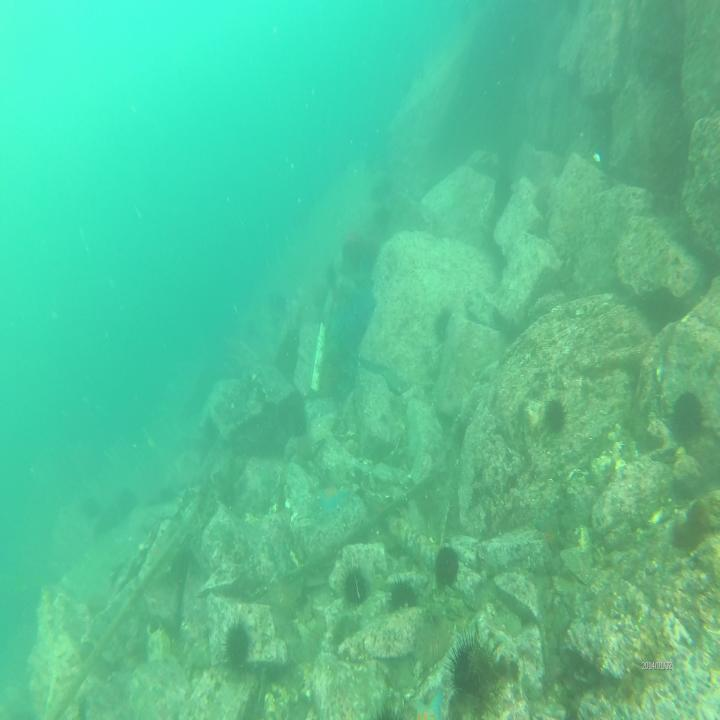echinus: (448, 636, 487, 693), (670, 391, 705, 444), (222, 620, 252, 672), (342, 564, 369, 610), (433, 545, 461, 588), (543, 396, 568, 438), (390, 578, 418, 614), (434, 306, 453, 342)
starfish: (313, 482, 346, 520), (412, 688, 446, 720)
